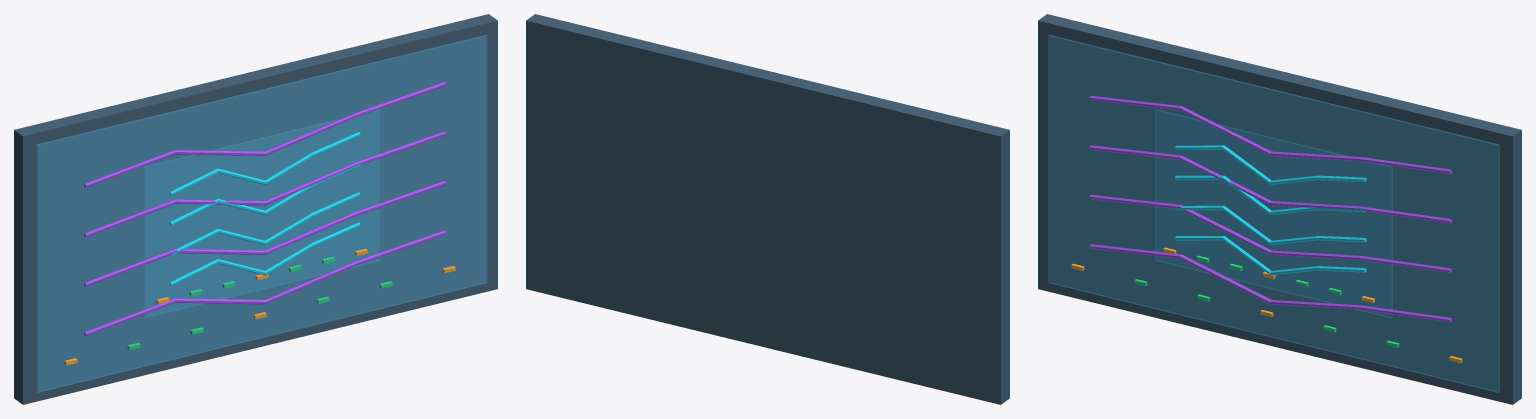
Rendered from 12_L81_HolographicEventSpatialMap.fbx.
The picture shows the model from 3 angles, left to right: view 1: azimuth 30°, elevation 25°; view 2: azimuth 150°, elevation 25°; view 3: azimuth 330°, elevation 25°; orthographic projection.
Parts seen in each view (by area): view 1: HolographicEventSpatialMap, HolographicEventSpatialMap_Part_0038, HolographicEventSpatialMap_Part_0037; view 2: HolographicEventSpatialMap, HolographicEventSpatialMap_Part_0037; view 3: HolographicEventSpatialMap, HolographicEventSpatialMap_Part_0037, HolographicEventSpatialMap_Part_0038.
Part boxes in pixels (x1,y1,x2,y2): HolographicEventSpatialMap: (14,14,497,404); HolographicEventSpatialMap_Part_0038: (143,109,380,318); HolographicEventSpatialMap_Part_0037: (130,95,390,329); HolographicEventSpatialMap: (526,14,1009,404); HolographicEventSpatialMap_Part_0037: (633,95,893,330); HolographicEventSpatialMap: (1038,14,1521,404); HolographicEventSpatialMap_Part_0037: (1145,95,1405,330); HolographicEventSpatialMap_Part_0038: (1155,109,1392,318).
Bounding box in the file's own units: 211 × 114 × 11.4.
